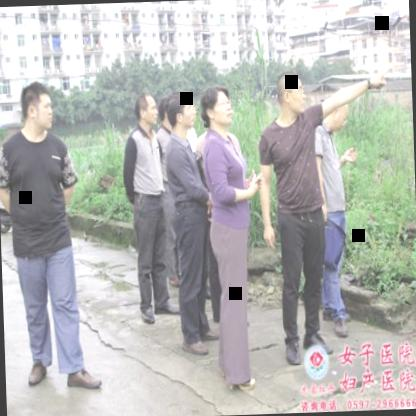head: (18, 78, 58, 140), (200, 82, 236, 134), (274, 68, 308, 118), (160, 90, 193, 139), (322, 88, 352, 134), (134, 88, 159, 132)
